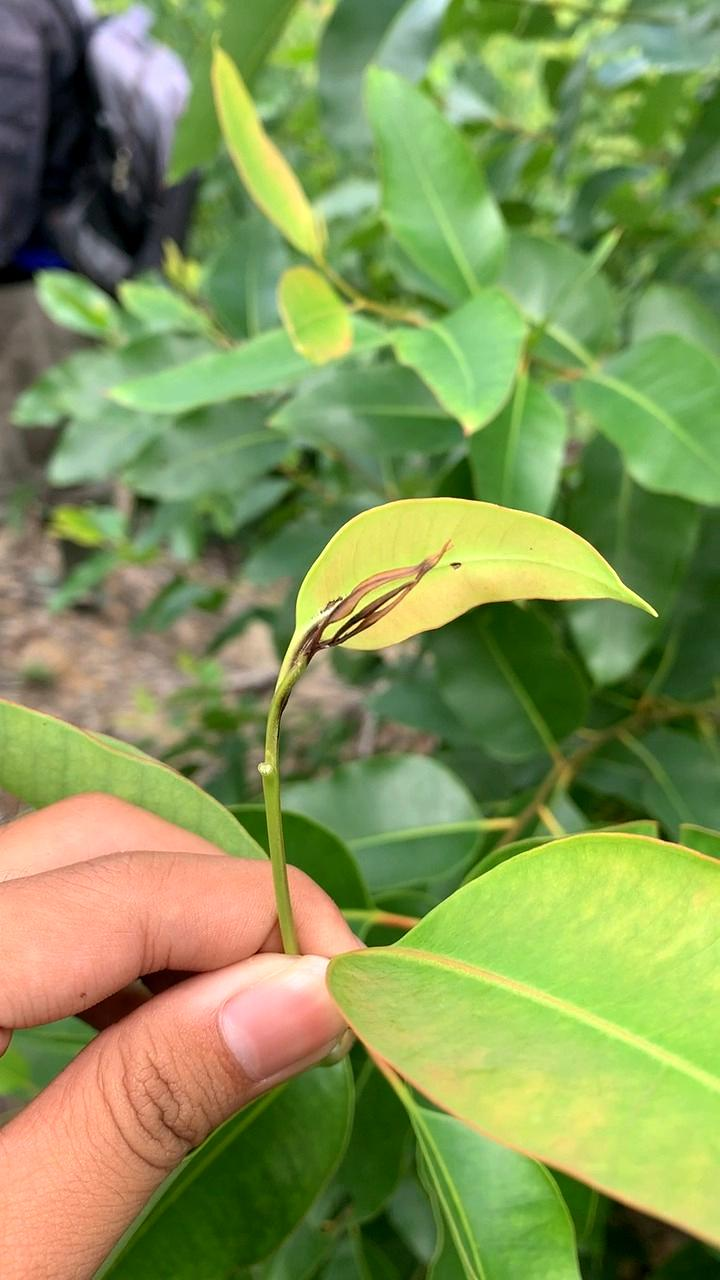Helopeltis-Withered Sprout: (296, 533, 455, 673)
